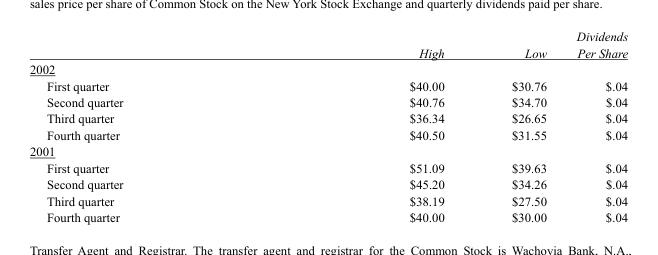table: (28, 28, 627, 223)
table column: (28, 28, 265, 223), (265, 28, 477, 223), (477, 28, 560, 223), (560, 28, 627, 223)
table column header: (28, 28, 627, 60)
table projected row header: (28, 60, 627, 77), (28, 142, 627, 159)
table row: (28, 28, 627, 60), (28, 60, 627, 77), (28, 109, 627, 126), (28, 142, 627, 159), (28, 175, 627, 192), (28, 77, 627, 93), (28, 93, 627, 109), (28, 126, 627, 142), (28, 159, 627, 175), (28, 192, 627, 208), (28, 208, 627, 223)
